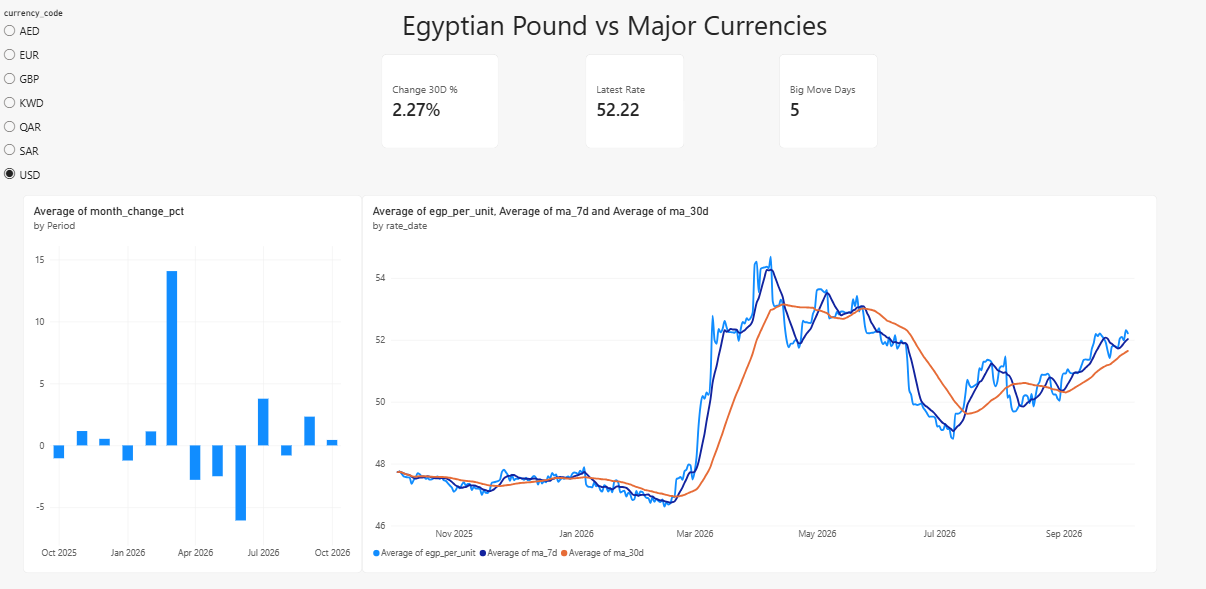

What the dashboard file says about the page in this screenshot:
{"tool":"powerbi","page":{"name":"Page 1","canvas":[1920,1080],"ordinal":0},"visuals":[{"type":"slicer","fields":{"Values":["dim_currency.currency_code"]},"box":[0,93.1,238.6,298.2],"z":0},{"type":"cardVisual","fields":{"Data":["vw_fx_daily.Change 30D %"]},"box":[608.4,167,186.1,150.3],"z":2},{"type":"cardVisual","fields":{"Data":["vw_fx_daily.Latest Rate"]},"box":[932.9,167,157,150],"z":3},{"type":"cardVisual","fields":{"Data":["vw_fx_daily.Big Move Days"]},"box":[1240.7,167,157,150],"z":4},{"type":"lineChart","fields":{"Category":["vw_fx_daily.rate_date"],"Y":["Avg(vw_fx_daily.egp_per_unit)","Avg(vw_fx_daily.ma_7d)","Avg(vw_fx_daily.ma_30d)"]},"box":[577.4,391.3,1264.5,601.3],"z":5},{"type":"clusteredColumnChart","fields":{"Category":["vw_fx_monthly.Period"],"Y":["Avg(vw_fx_monthly.month_change_pct)"]},"box":[38.2,391.3,539.2,601.3],"z":6},{"type":"textbox","box":[38.2,90.7,1882.5,150.3],"z":7}]}

Visuals, with their boxes on the page's 1920x1080 design canvas (x1, y1, x2, y2). These are canvas units, not pixel positions in the 1206x589 screenshot, which may show the page scaled, cropped or inside an application window:
slicer - dim_currency.currency_code: bbox=(0, 93, 239, 391)
cardVisual - vw_fx_daily.Change 30D %: bbox=(608, 167, 794, 317)
cardVisual - vw_fx_daily.Latest Rate: bbox=(933, 167, 1090, 317)
cardVisual - vw_fx_daily.Big Move Days: bbox=(1241, 167, 1398, 317)
lineChart - vw_fx_daily.rate_date x Avg(vw_fx_daily.egp_per_unit): bbox=(577, 391, 1842, 993)
clusteredColumnChart - vw_fx_monthly.Period x Avg(vw_fx_monthly.month_change_pct): bbox=(38, 391, 577, 993)
textbox: bbox=(38, 91, 1921, 241)
